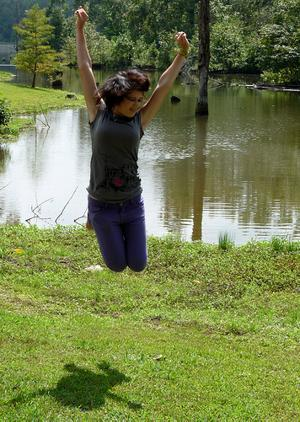person: (75, 6, 189, 278)
